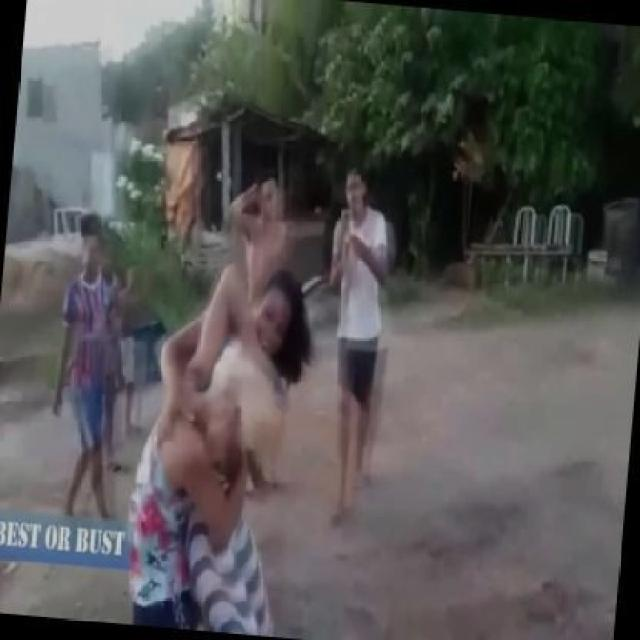fight: (123, 266, 341, 628)
non-fight: (309, 155, 429, 538)
